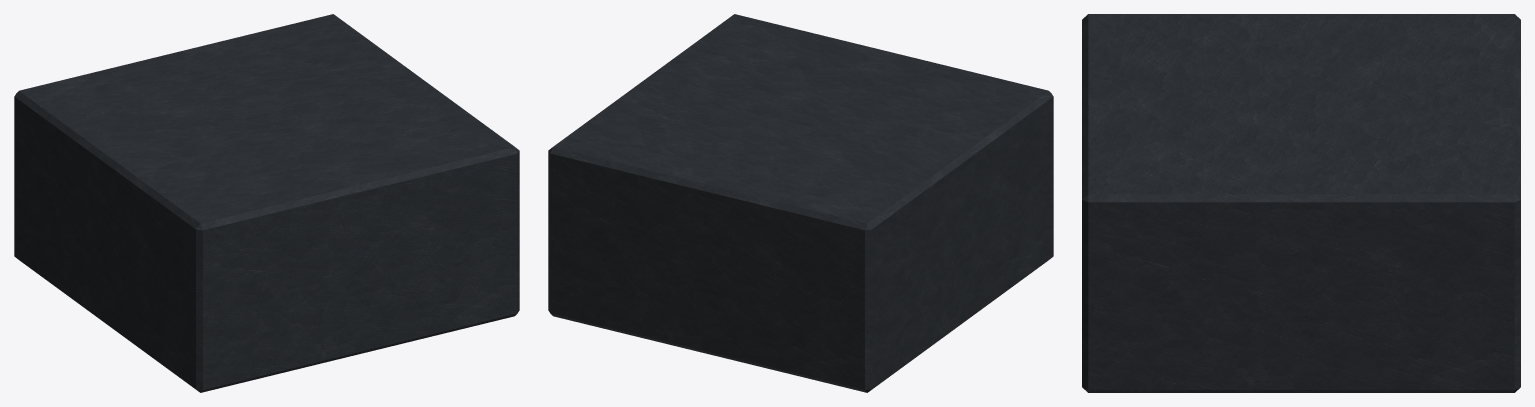
Rendered from train_black_iron_slab.gltf.
3 views of the same model, side by side, from view 1: azimuth 30°, elevation 25°; view 2: azimuth 150°, elevation 25°; view 3: azimuth 270°, elevation 25° (orthographic). The views are drawn at different scales.
Bounding box in the file's own units: 1 × 0.5 × 1.
Materials: 2 (2 with a texture image).
